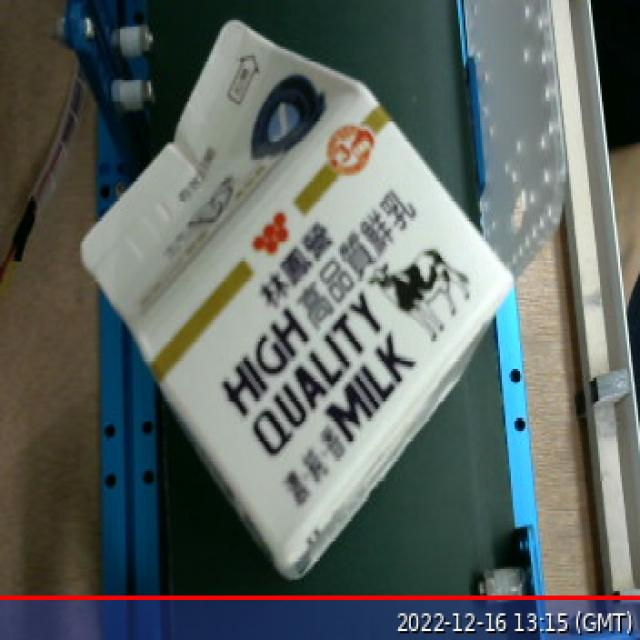non_white_jug: (56, 16, 544, 609)
